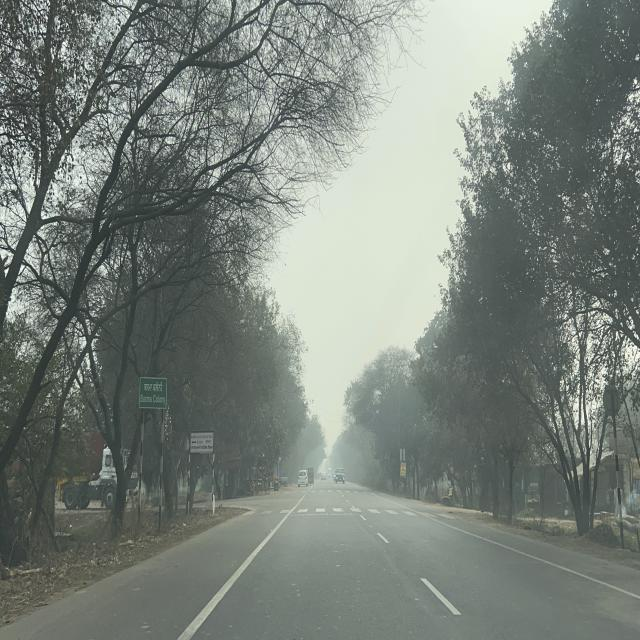GENERAL: (138, 376, 168, 410)
